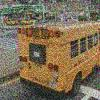buses: (14, 21, 100, 95)
